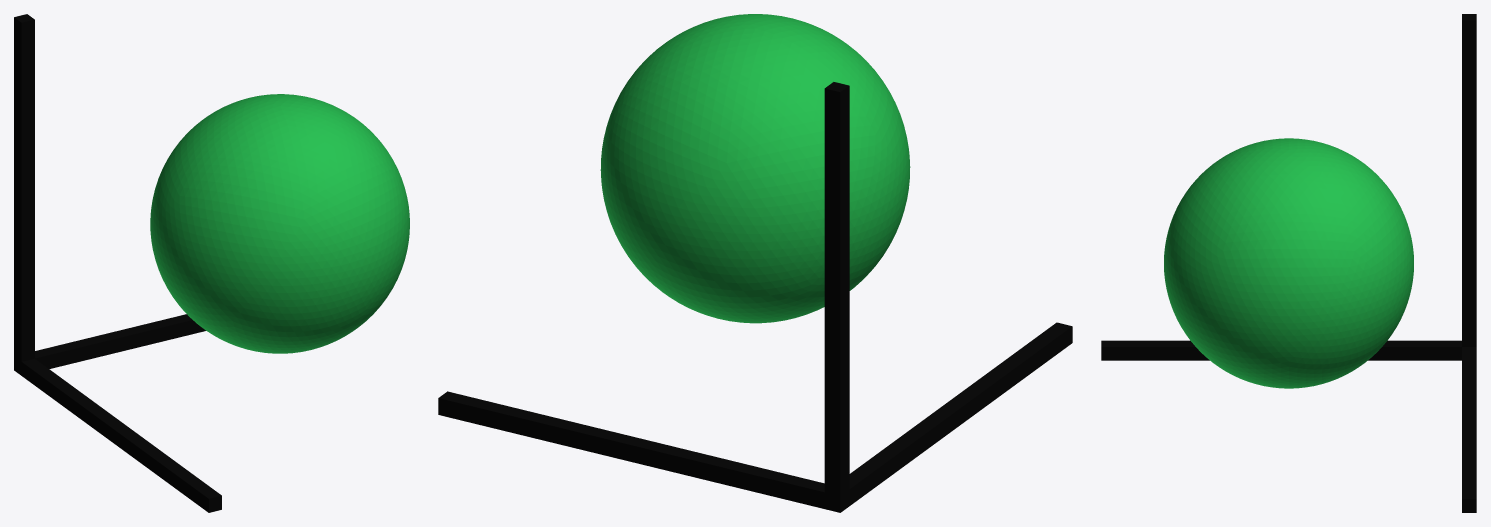
File: esfera.gltf
The picture shows the model from 3 angles, left to right: view 1: azimuth 30°, elevation 25°; view 2: azimuth 150°, elevation 25°; view 3: azimuth 270°, elevation 25°; orthographic projection. The views are drawn at different scales.
Size of the model in its own units: 0.06 by 0.06 by 0.06.
